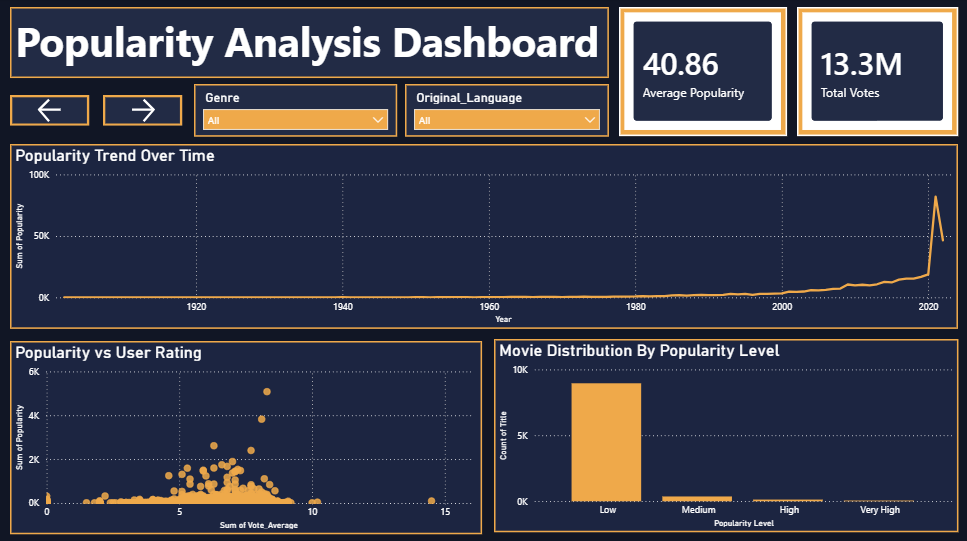

This screenshot's page, from the dashboard's own definition file:
{"tool":"powerbi","page":{"name":"Popularity Analysis","canvas":[1280,720],"ordinal":3},"visuals":[{"type":"textbox","box":[22.3,11.8,784.1,92.9],"z":0},{"type":"actionButton","box":[21.6,126.7,103.7,40.3],"z":1000},{"type":"actionButton","box":[144,126.7,103.7,40.3],"z":2000},{"type":"cardVisual","fields":{"Data":["Genre.Average Popularity"]},"box":[819.5,11.8,219.9,168.9],"z":3000},{"type":"cardVisual","fields":{"Data":["Genre.Total Votes"]},"box":[1052.5,11.8,210.8,168.9],"z":4000},{"type":"scatterChart","title":"Popularity vs User Rating","fields":{"X":["Sum(mymoviedb.Vote_Average)"],"Y":["Sum(mymoviedb.Popularity)"],"Category":["mymoviedb.Title"]},"box":[22,448.7,618,253.2],"z":5000},{"type":"clusteredColumnChart","title":"Movie Distribution By Popularity Level","fields":{"Category":["Popularity Level.Popularity Level"],"Y":["CountNonNull(mymoviedb.Title)"]},"box":[655.2,446.4,607.7,253.4],"z":6000},{"type":"lineChart","title":"Popularity Trend Over Time","fields":{"Category":["Date Table.Date.Variation.Date Hierarchy.Year"],"Y":["Sum(mymoviedb.Popularity)"]},"box":[21.6,191.5,1241.3,241.9],"z":7000},{"type":"slicer","fields":{"Values":["Genre.Genre"]},"box":[262.9,112.9,265.6,68.8],"z":8000},{"type":"slicer","fields":{"Values":["Language.Original_Language"]},"box":[539.5,112.9,267,68.8],"z":9000}]}

Visuals, with their boxes in screenshot pixels (x1, y1, x2, y2), scaled from the page's 1280x720 canvas onto the 967x541 screenshot:
textbox: detection(17, 9, 609, 79)
actionButton: detection(16, 95, 95, 125)
actionButton: detection(109, 95, 187, 125)
cardVisual - Genre.Average Popularity: detection(619, 9, 785, 136)
cardVisual - Genre.Total Votes: detection(795, 9, 954, 136)
"Popularity vs User Rating" scatterChart: detection(17, 337, 484, 527)
"Movie Distribution By Popularity Level" clusteredColumnChart: detection(495, 335, 954, 526)
"Popularity Trend Over Time" lineChart: detection(16, 144, 954, 326)
slicer - Genre.Genre: detection(199, 85, 399, 137)
slicer - Language.Original_Language: detection(408, 85, 609, 137)
